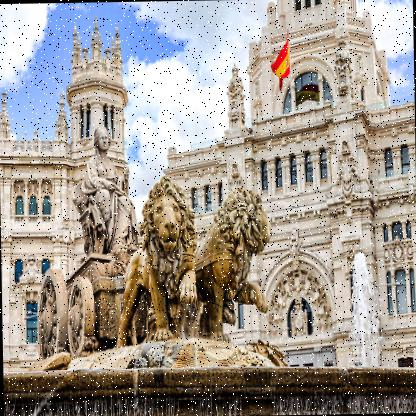es: (271, 30, 290, 94)
